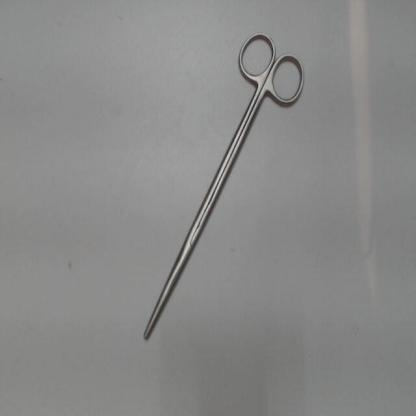9 Metzenbaum Scissors: (140, 26, 310, 345)
